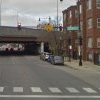crosswalk: (0, 86, 97, 92)
